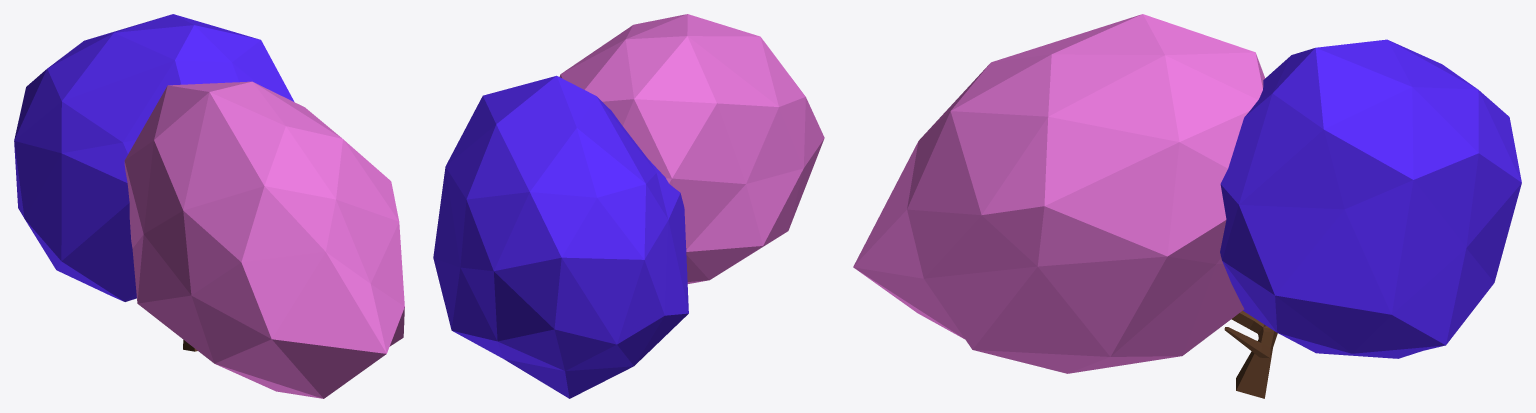
Rendered from bush2.fbx.
The picture shows the model from 3 angles, left to right: view 1: azimuth 30°, elevation 25°; view 2: azimuth 150°, elevation 25°; view 3: azimuth 270°, elevation 25°; orthographic projection. The views are drawn at different scales.
Visible parts, largest first — view 1: Icosphere.020; view 2: Icosphere.020; view 3: Icosphere.020.
Part boxes in pixels (x1=…): Icosphere.020: x1=14, y1=14, x2=404, y2=398; Icosphere.020: x1=433, y1=14, x2=824, y2=398; Icosphere.020: x1=853, y1=14, x2=1521, y2=398.
Bounding box in the file's own units: 88.33 × 111 × 187.
